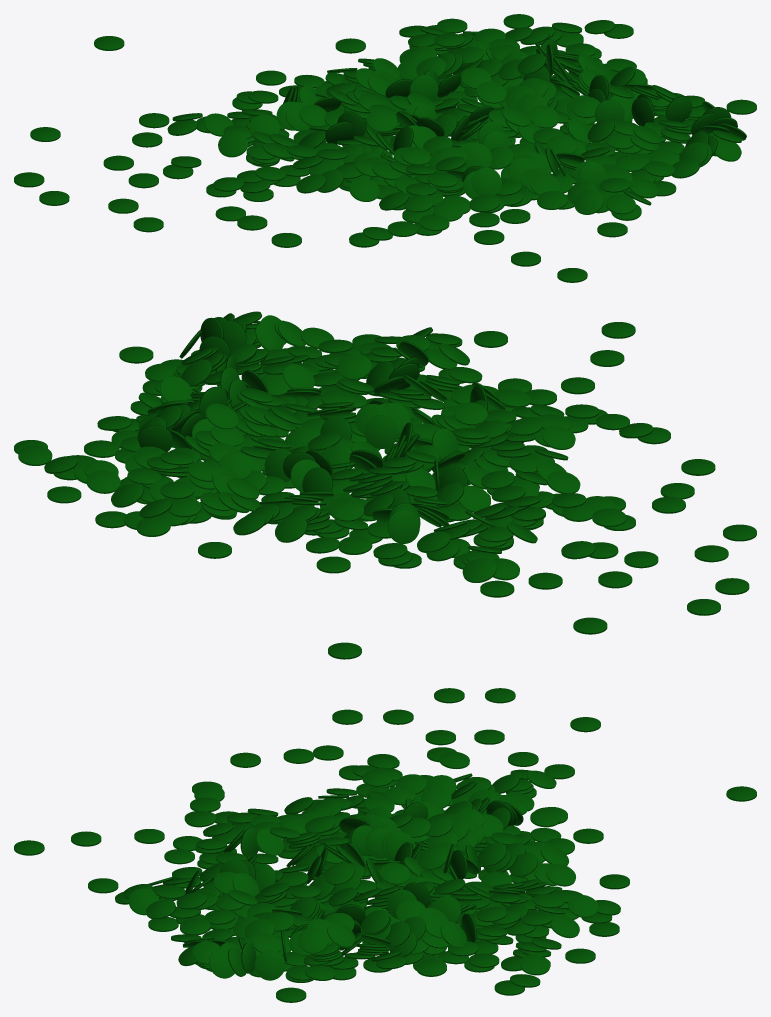
File: PileOfCoins.fbx
3 renders of one model, top to bottom at view 1: azimuth 30°, elevation 25°; view 2: azimuth 150°, elevation 25°; view 3: azimuth 270°, elevation 25°, orthographic. The views are drawn at different scales.
Visible parts, largest first — view 1: Coin001_inst162, Coin001_inst294, Coin001_inst018, Coin001_inst089, Coin001_inst014, Coin001_inst565, Coin001_inst034, Coin001_inst005, Coin001_inst581, Coin001_inst016, Coin001_inst703, Coin001_inst061 (+18 smaller); view 2: Coin001_inst086, Coin001_inst493, Coin001_inst069, Coin001_inst434, Coin001_inst442, Coin001_inst465, Coin001_inst143, Coin001_inst498, Coin001_inst592, Coin001_inst417, Coin001_inst198, Coin001_inst387 (+11 smaller); view 3: Coin001_inst043, Coin001_inst345, Coin001_inst380, Coin001_inst212, Coin001_inst654, Coin001_inst556, Coin001_inst045, Coin001_inst211, Coin001_inst319, Coin001_inst537, Coin001_inst317, Coin001_inst404 (+3 smaller).
Part boxes in pixels (bbox=[...]): Coin001_inst162: bbox=[471, 167, 501, 195]; Coin001_inst294: bbox=[218, 132, 248, 157]; Coin001_inst018: bbox=[574, 189, 603, 214]; Coin001_inst089: bbox=[349, 178, 379, 201]; Coin001_inst014: bbox=[463, 143, 491, 168]; Coin001_inst565: bbox=[367, 110, 397, 132]; Coin001_inst034: bbox=[665, 96, 692, 122]; Coin001_inst005: bbox=[528, 105, 558, 128]; Coin001_inst581: bbox=[476, 81, 506, 103]; Coin001_inst016: bbox=[594, 99, 624, 122]; Coin001_inst703: bbox=[409, 74, 438, 101]; Coin001_inst061: bbox=[631, 97, 654, 126]; Coin001_inst086: bbox=[364, 415, 398, 448]; Coin001_inst493: bbox=[387, 510, 419, 543]; Coin001_inst069: bbox=[337, 354, 371, 379]; Coin001_inst434: bbox=[139, 424, 172, 452]; Coin001_inst442: bbox=[275, 515, 307, 542]; Coin001_inst465: bbox=[462, 558, 496, 582]; Coin001_inst143: bbox=[541, 425, 575, 449]; Coin001_inst498: bbox=[86, 470, 120, 493]; Coin001_inst592: bbox=[205, 403, 238, 429]; Coin001_inst417: bbox=[159, 376, 192, 401]; Coin001_inst198: bbox=[453, 402, 487, 425]; Coin001_inst387: bbox=[302, 467, 332, 498]; Coin001_inst043: bbox=[254, 950, 285, 980]; Coin001_inst345: bbox=[298, 927, 328, 953]; Coin001_inst380: bbox=[568, 895, 598, 917]; Coin001_inst212: bbox=[417, 846, 447, 870]; Coin001_inst654: bbox=[255, 828, 283, 855]; Coin001_inst556: bbox=[379, 862, 410, 884]; Coin001_inst045: bbox=[129, 888, 159, 915]; Coin001_inst211: bbox=[208, 949, 234, 978]; Coin001_inst319: bbox=[327, 922, 355, 947]; Coin001_inst537: bbox=[324, 862, 354, 885]; Coin001_inst317: bbox=[440, 921, 466, 948]; Coin001_inst404: bbox=[546, 864, 575, 886].
Bounding box in the file's own units: 0.7255 × 0.0548 × 0.7292.
